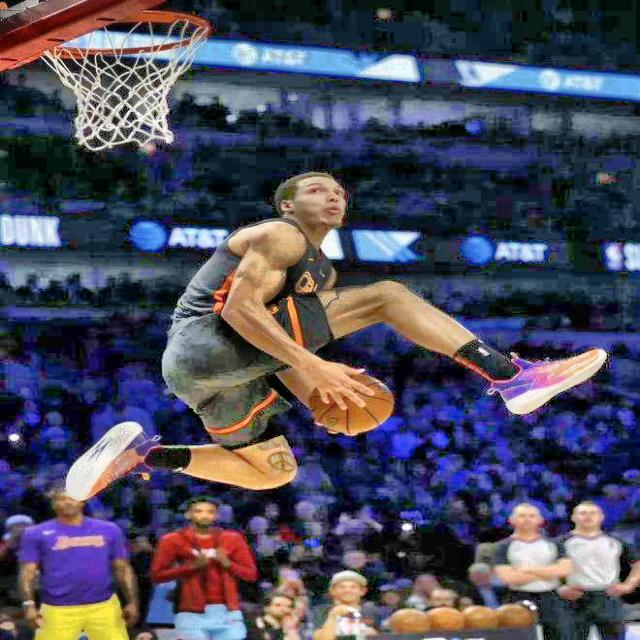rim: (42, 11, 208, 146)
